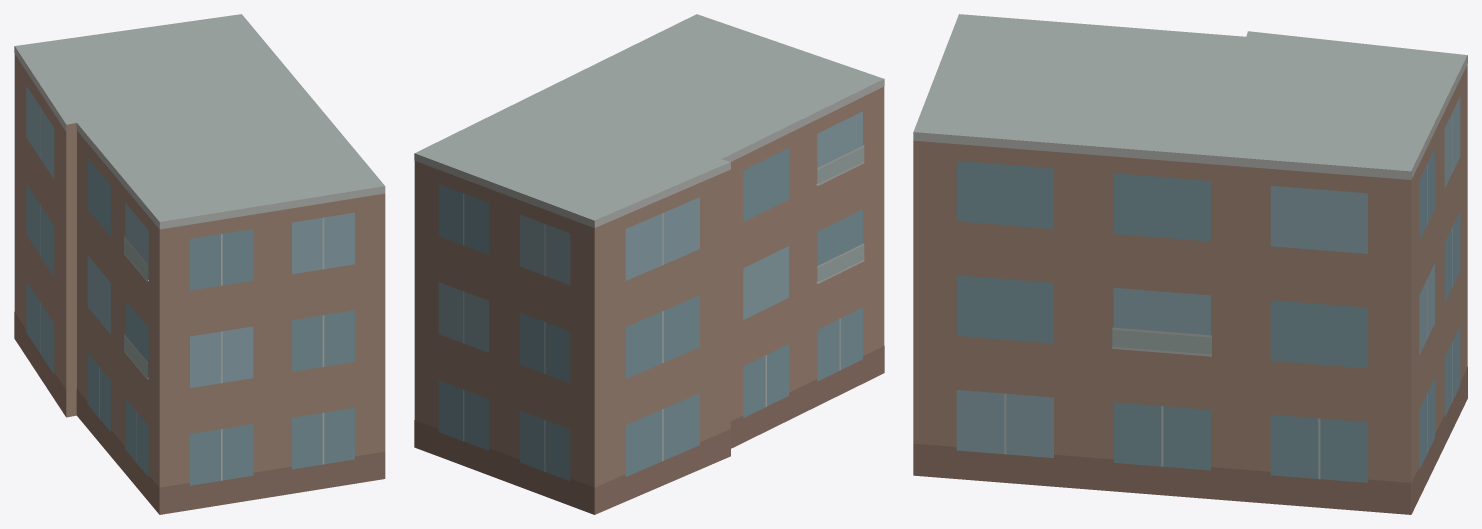
File: survey-upis-32886520.glb
3 views of the same model, side by side, from view 1: azimuth 30°, elevation 25°; view 2: azimuth 150°, elevation 25°; view 3: azimuth 270°, elevation 25° (orthographic). The views are drawn at different scales.
Visible parts, largest first — view 1: survey-upis-32886520.tmp; view 2: survey-upis-32886520.tmp; view 3: survey-upis-32886520.tmp.
Boxes of the visible parts, x1=… form: survey-upis-32886520.tmp: x1=14, y1=14, x2=385, y2=514; survey-upis-32886520.tmp: x1=414, y1=14, x2=884, y2=514; survey-upis-32886520.tmp: x1=913, y1=14, x2=1467, y2=514.
Size of the model in its own units: 9.54 by 9.7 by 14.2.
